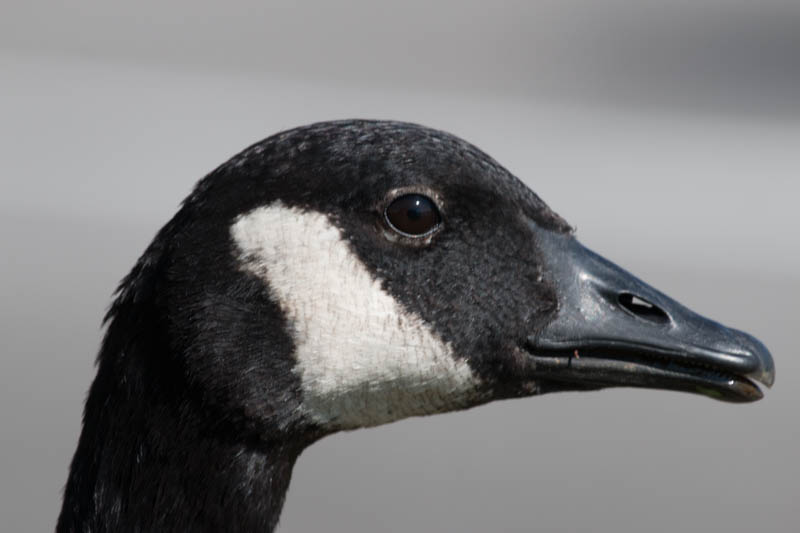goose-head: (108, 118, 775, 438)
